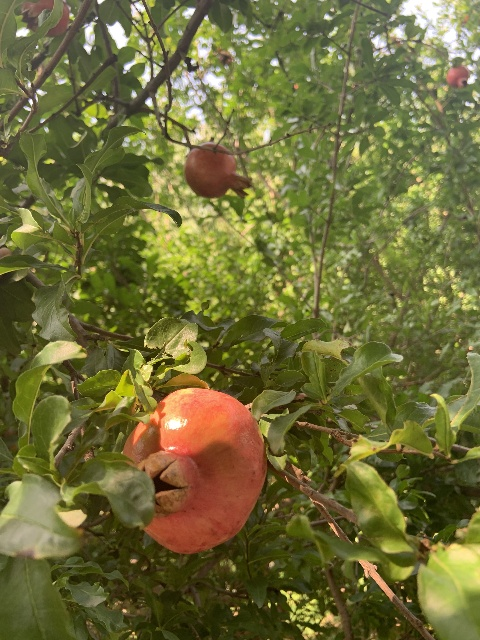ripe: (122, 387, 267, 553), (184, 142, 251, 198), (20, 0, 69, 37), (446, 66, 469, 88)
